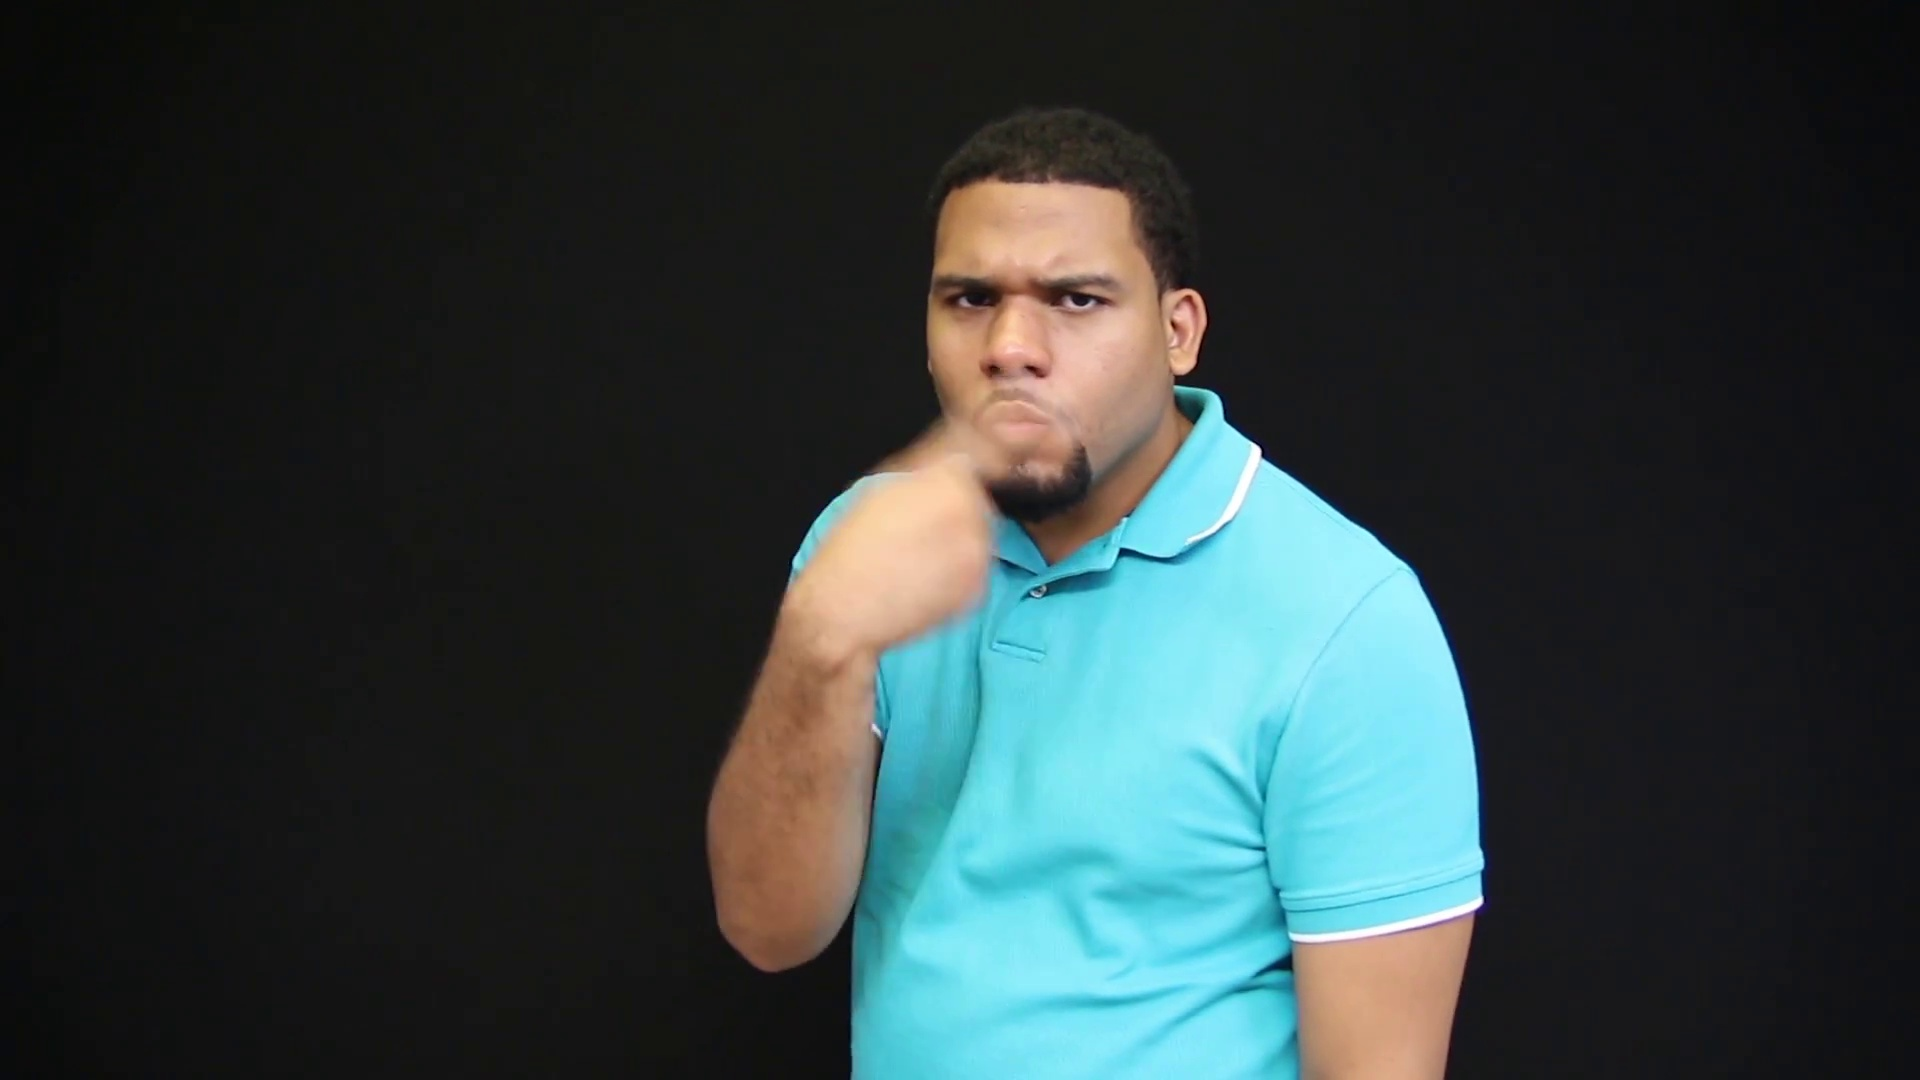who: (777, 400, 1095, 658)
